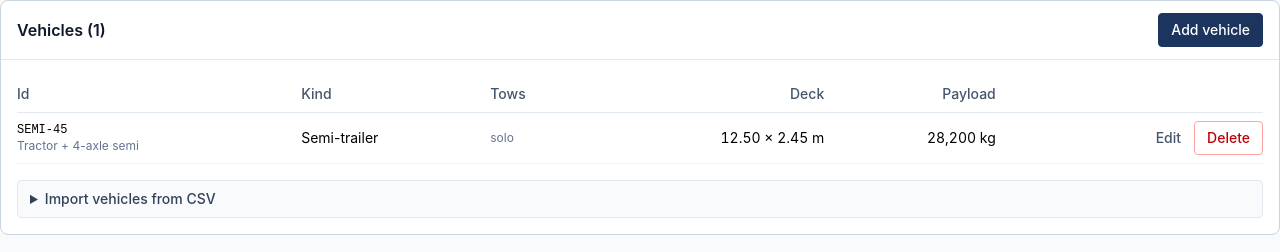
VehicleSection › deletes a vehicle
Click the button "Delete": (1229, 138) [1194,121,1263,155]
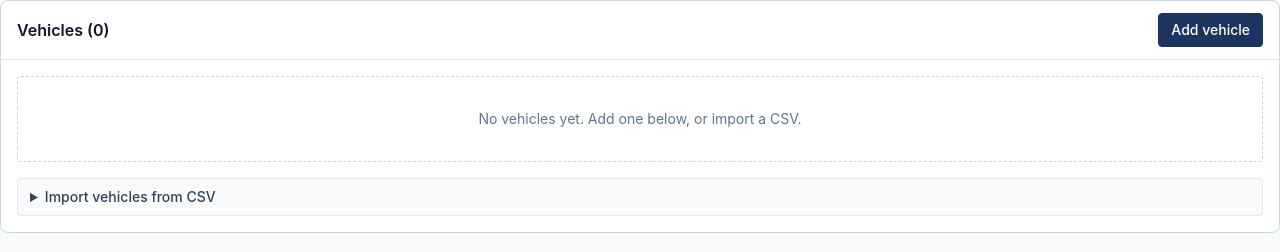
Expected: the heading "Vehicles (0)" is shown, [17,18,110,42]
